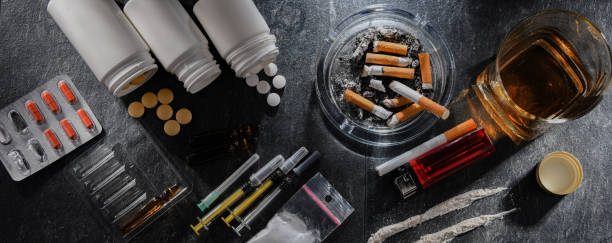alcohol: (478, 7, 611, 136)
cigarette: (377, 117, 476, 174), (389, 80, 451, 120), (342, 88, 393, 120), (386, 101, 425, 128), (360, 65, 416, 78), (364, 52, 414, 66), (371, 39, 410, 55), (419, 52, 433, 91), (381, 94, 413, 109)
